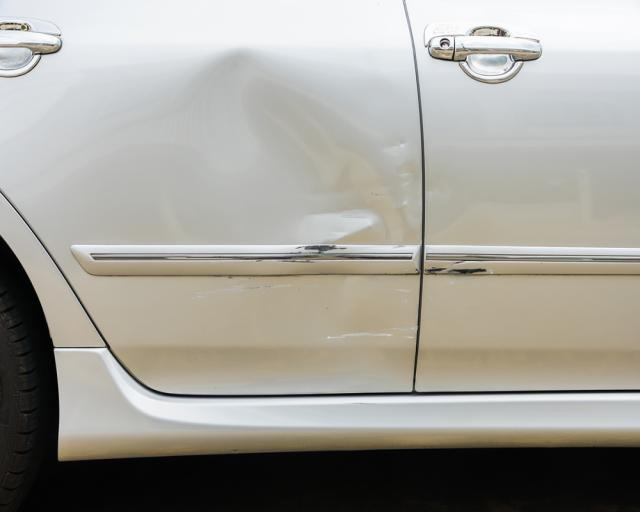dent: (160, 51, 405, 247)
scratch: (182, 242, 350, 300), (320, 322, 417, 343), (429, 255, 497, 279)
